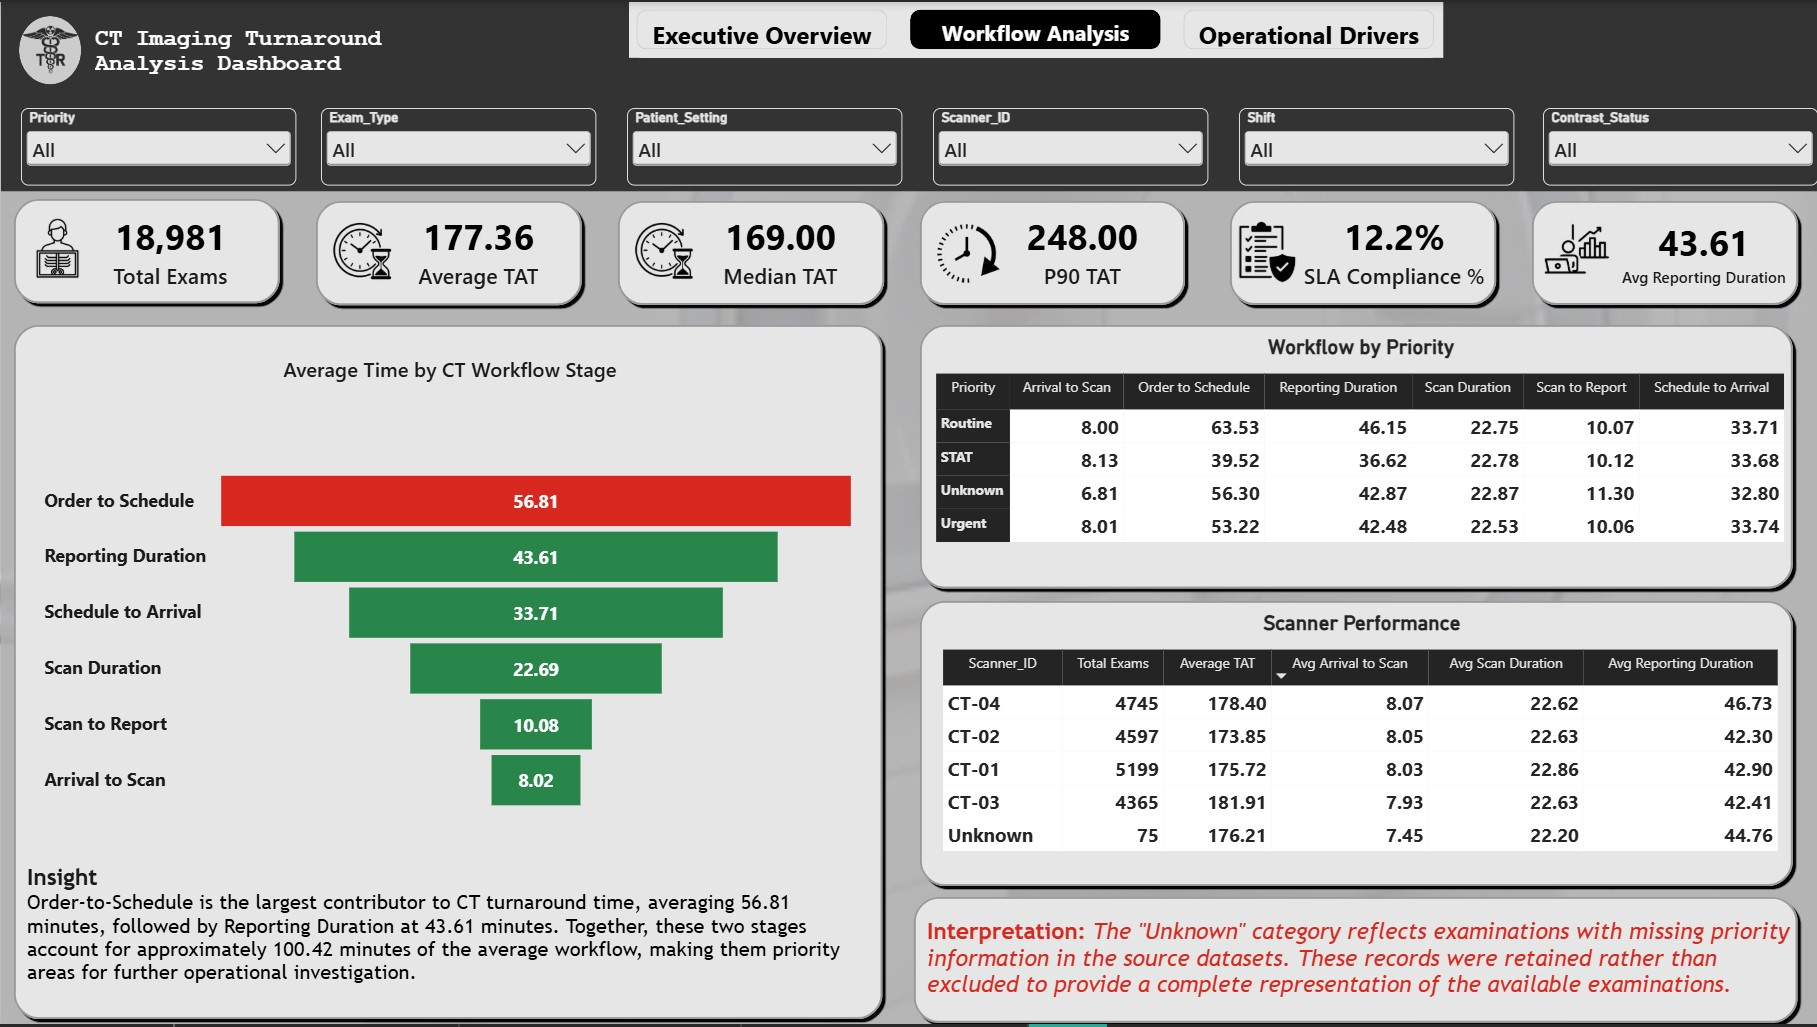

Layout of this report page (visuals, bound fields, positions):
{"tool":"powerbi","page":{"name":"Workflow Analysis","canvas":[1920,1080],"ordinal":1},"visuals":[{"type":"shape","box":[0,0,1920,200.2],"z":0},{"type":"shape","box":[1611.8,204,291.7,120.2],"z":0,"group":"g5"},{"type":"funnel","title":"Average Time by CT Workflow Stage","fields":{"Category":["WorkflowStages.Stage"],"Y":["WorkflowStages.Workflow Avg Minutes"]},"box":[29.6,359.4,889.5,586.9],"z":0,"group":"g7"},{"type":"shape","box":[664.3,0,860.2,59.2],"z":1000},{"type":"cardVisual","fields":{"Data":["Fact_CT_Exams.Avg Reporting Duration"]},"box":[1693.8,204,209.3,120.9],"z":1000,"group":"g5"},{"type":"textbox","box":[27.7,911.2,887.2,136.5],"z":1000,"group":"g7"},{"type":"slicer","fields":{"Values":["Fact_CT_Exams.Priority"]},"box":[20.5,111.5,291.2,81.9],"z":2000},{"type":"image","box":[1617.1,231.9,95.3,57],"z":2000,"group":"g5"},{"type":"shape","box":[20,13.8,65.7,72.3],"z":3000,"group":"g8"},{"type":"slicer","fields":{"Values":["Fact_CT_Exams.Exam_Type"]},"box":[339,111.5,291.2,81.9],"z":3000},{"type":"image","box":[24,21.8,58.2,56.4],"z":3500,"group":"g8"},{"type":"slicer","fields":{"Values":["Fact_CT_Exams.Patient_Setting"]},"box":[662,111.5,291.2,81.9],"z":4000},{"type":"slicer","fields":{"Values":["Fact_CT_Exams.Scanner_ID"]},"box":[985,111.5,291.2,81.9],"z":5000},{"type":"slicer","fields":{"Values":["Fact_CT_Exams.Shift"]},"box":[1308.1,111.5,291.2,81.9],"z":6000},{"type":"slicer","fields":{"Values":["Fact_CT_Exams.Contrast_Status"]},"box":[1629.5,112.1,291.2,81.9],"z":7000},{"type":"shape","box":[8.4,202,291.2,120.6],"z":8000},{"type":"group","id":"g1","title":"Group 3","box":[326.9,204.2,291.6,120.6],"z":9000},{"type":"group","id":"g2","title":"Group 4","box":[646.3,204,291.7,120.2],"z":10000},{"type":"group","id":"g3","title":"Group 5","box":[965.3,204,292,120.2],"z":11000},{"type":"shape","box":[326.9,204.2,291.2,120.6],"z":11000,"group":"g1"},{"type":"shape","box":[646.3,204,291.7,120.2],"z":12000,"group":"g2"},{"type":"group","id":"g4","title":"Group 6","box":[1292.7,204,292.6,120.2],"z":12000},{"type":"shape","box":[965.3,204,290.5,120.2],"z":13000,"group":"g3"},{"type":"group","id":"g5","title":"Group 7","box":[1611.8,204,291.7,120.9],"z":13000},{"type":"shape","box":[1292.7,204,291.7,120.2],"z":14000,"group":"g4"},{"type":"shape","box":[9.1,336.7,928.2,743.9],"z":14000},{"type":"group","id":"g6","title":"Group 2","box":[18.1,213,273.7,97.4],"z":15000},{"type":"cardVisual","fields":{"Data":["Fact_CT_Exams.Total Exams"]},"box":[64,214.4,227.8,96],"z":16000,"group":"g6"},{"type":"shape","box":[966.8,336.7,932.7,288.9],"z":16000},{"type":"image","box":[18.1,213,81.6,93.6],"z":17000,"group":"g6"},{"type":"shape","box":[966.8,627.9,932.7,311.7],"z":17000},{"type":"cardVisual","fields":{"Data":["Fact_CT_Exams.Average TAT"]},"box":[390.6,215.5,227.8,96],"z":18000,"group":"g1"},{"type":"group","id":"g7","title":"Group 8","box":[27.7,359.4,891.4,688.3],"z":18000},{"type":"image","box":[326.9,219.9,109.7,89.4],"z":19000,"group":"g1"},{"type":"pivotTable","title":"Workflow by Priority","fields":{"Rows":["Fact_CT_Exams.Priority"],"Columns":["WorkflowStages.Stage"],"Values":["WorkflowStages.Workflow Avg Minutes"]},"box":[971.4,339,930.4,254.8],"z":19000},{"type":"cardVisual","fields":{"Data":["Fact_CT_Exams.Median TAT"]},"box":[708.7,214.4,227.8,96],"z":20000,"group":"g2"},{"type":"tableEx","title":"Scanner Performance","fields":{"Values":["Fact_CT_Exams.Scanner_ID","Fact_CT_Exams.Total Exams","Fact_CT_Exams.Average TAT","Fact_CT_Exams.Avg Arrival to Scan","Fact_CT_Exams.Avg Scan Duration","Fact_CT_Exams.Avg Reporting Duration"]},"box":[978.2,630.1,919.1,288.9],"z":20000},{"type":"image","box":[646.4,219.6,109.2,88.7],"z":21000,"group":"g2"},{"type":"shape","box":[960,939.5,944.1,143.3],"z":21000},{"type":"textbox","box":[100,100,300,300],"z":22000},{"type":"cardVisual","fields":{"Data":["Fact_CT_Exams.P90 TAT"]},"box":[1029.5,214.4,227.8,96],"z":22000,"group":"g3"},{"type":"image","box":[965.3,218.3,109.5,91.7],"z":23000,"group":"g3"},{"type":"textbox","box":[978.5,967.1,920.3,88.6],"z":23000},{"type":"group","id":"g8","title":"Group 1","box":[20,13.8,66.2,71.2],"z":24000},{"type":"cardVisual","fields":{"Data":["Fact_CT_Exams.SLA Compliance %"]},"box":[1357.4,215.6,227.8,96],"z":24000,"group":"g4"},{"type":"textbox","box":[98.8,25,317.5,61.2],"z":25000},{"type":"image","box":[1304.2,228.4,68.6,67.4],"z":25000,"group":"g4"},{"type":"pageNavigator","box":[664.4,0,860.3,58.9],"z":26000}]}

Visuals, with their boxes in screenshot pixels (x1, y1, x2, y2), scaled from the page's 1920x1080 canvas onto the 1817x1027 screenshot:
shape: left=0, top=0, right=1816, bottom=190
shape: left=1525, top=194, right=1801, bottom=308
"Average Time by CT Workflow Stage" funnel: left=28, top=342, right=870, bottom=900
shape: left=629, top=0, right=1443, bottom=56
cardVisual - Fact_CT_Exams.Avg Reporting Duration: left=1603, top=194, right=1801, bottom=309
textbox: left=26, top=866, right=866, bottom=996
slicer - Fact_CT_Exams.Priority: left=19, top=106, right=295, bottom=184
image: left=1530, top=221, right=1621, bottom=275
shape: left=19, top=13, right=81, bottom=82
slicer - Fact_CT_Exams.Exam_Type: left=321, top=106, right=596, bottom=184
image: left=23, top=21, right=78, bottom=74
slicer - Fact_CT_Exams.Patient_Setting: left=626, top=106, right=902, bottom=184
slicer - Fact_CT_Exams.Scanner_ID: left=932, top=106, right=1208, bottom=184
slicer - Fact_CT_Exams.Shift: left=1238, top=106, right=1514, bottom=184
slicer - Fact_CT_Exams.Contrast_Status: left=1542, top=107, right=1816, bottom=184
shape: left=8, top=192, right=284, bottom=307
"Group 3" group: left=309, top=194, right=585, bottom=309
"Group 4" group: left=612, top=194, right=888, bottom=308
"Group 5" group: left=914, top=194, right=1190, bottom=308
shape: left=309, top=194, right=585, bottom=309
shape: left=612, top=194, right=888, bottom=308
"Group 6" group: left=1223, top=194, right=1500, bottom=308
shape: left=914, top=194, right=1188, bottom=308
"Group 7" group: left=1525, top=194, right=1801, bottom=309
shape: left=1223, top=194, right=1499, bottom=308
shape: left=9, top=320, right=887, bottom=1026
"Group 2" group: left=17, top=203, right=276, bottom=295
cardVisual - Fact_CT_Exams.Total Exams: left=61, top=204, right=276, bottom=295
shape: left=915, top=320, right=1798, bottom=595
image: left=17, top=203, right=94, bottom=292
shape: left=915, top=597, right=1798, bottom=893
cardVisual - Fact_CT_Exams.Average TAT: left=370, top=205, right=585, bottom=296
"Group 8" group: left=26, top=342, right=870, bottom=996
image: left=309, top=209, right=413, bottom=294
"Workflow by Priority" pivotTable: left=919, top=322, right=1800, bottom=565
cardVisual - Fact_CT_Exams.Median TAT: left=671, top=204, right=886, bottom=295
"Scanner Performance" tableEx: left=926, top=599, right=1796, bottom=874
image: left=612, top=209, right=715, bottom=293
shape: left=908, top=893, right=1802, bottom=1026
textbox: left=95, top=95, right=379, bottom=380
cardVisual - Fact_CT_Exams.P90 TAT: left=974, top=204, right=1190, bottom=295
image: left=914, top=208, right=1017, bottom=295
textbox: left=926, top=920, right=1797, bottom=1004
"Group 1" group: left=19, top=13, right=82, bottom=81
cardVisual - Fact_CT_Exams.SLA Compliance %: left=1285, top=205, right=1500, bottom=296
textbox: left=93, top=24, right=394, bottom=82
image: left=1234, top=217, right=1299, bottom=281
pageNavigator: left=629, top=0, right=1443, bottom=56
